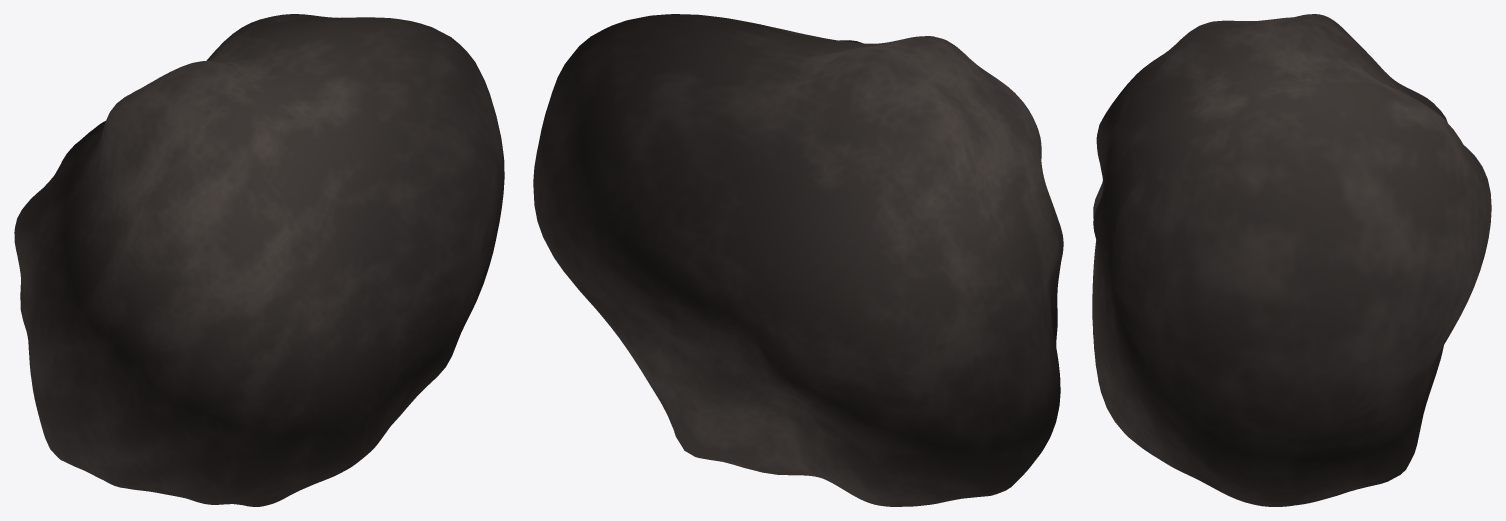
The model's file is asteroid-hunk.glb.
The picture shows the model from 3 angles, left to right: view 1: azimuth 30°, elevation 25°; view 2: azimuth 150°, elevation 25°; view 3: azimuth 270°, elevation 25°; orthographic projection. The views are drawn at different scales.
Visible parts, largest first — view 1: asteroid_2002; view 2: asteroid_2002; view 3: asteroid_2002.
Boxes of the visible parts, x1=… form: asteroid_2002: x1=14, y1=14, x2=504, y2=506; asteroid_2002: x1=533, y1=14, x2=1063, y2=506; asteroid_2002: x1=1092, y1=14, x2=1491, y2=506.
Bounding box in the file's own units: 101 × 85.44 × 72.35.
1 material, 1 textured.
